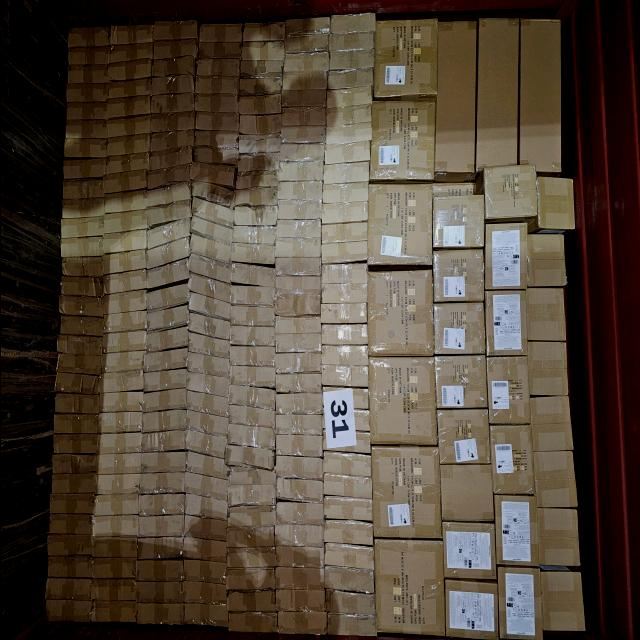Carton: (474, 19, 520, 171), (375, 538, 445, 634), (518, 19, 562, 171), (372, 446, 441, 541), (430, 18, 472, 174), (370, 357, 438, 449), (367, 268, 433, 356), (366, 182, 434, 267), (369, 98, 436, 182), (372, 19, 438, 99), (492, 496, 536, 570), (494, 566, 538, 638), (436, 466, 490, 524), (480, 167, 536, 222), (441, 582, 494, 640), (444, 522, 496, 580), (480, 220, 524, 288), (488, 424, 530, 494), (484, 356, 527, 424), (428, 303, 482, 357), (429, 192, 481, 248), (437, 409, 489, 465), (434, 354, 487, 408), (540, 570, 584, 634), (482, 289, 524, 356), (430, 248, 480, 304), (532, 450, 576, 507), (537, 506, 578, 566), (529, 395, 571, 451), (527, 342, 567, 396), (526, 236, 566, 289), (528, 288, 568, 340), (536, 177, 574, 231), (320, 263, 368, 304), (320, 348, 368, 386), (327, 12, 373, 48), (145, 256, 189, 290), (144, 198, 189, 230), (145, 237, 187, 271), (145, 219, 189, 251), (324, 564, 374, 592), (323, 546, 373, 574), (223, 446, 276, 472), (325, 589, 375, 616), (144, 280, 188, 310), (321, 455, 371, 481), (148, 182, 188, 214), (322, 496, 370, 522), (182, 601, 230, 627), (226, 482, 275, 507), (324, 520, 374, 544), (274, 612, 324, 636), (275, 588, 325, 612), (229, 383, 275, 409), (321, 390, 368, 415), (324, 616, 377, 638), (274, 502, 322, 526), (272, 330, 320, 354), (149, 165, 191, 192), (275, 455, 322, 479), (275, 478, 321, 502), (44, 576, 90, 600), (226, 590, 276, 612), (274, 566, 324, 588), (226, 548, 276, 570), (227, 613, 277, 635), (187, 314, 229, 340), (150, 146, 192, 172), (190, 273, 232, 299), (190, 234, 232, 260), (192, 180, 234, 206), (191, 255, 231, 282), (228, 505, 277, 527), (322, 162, 368, 185), (44, 555, 90, 578), (318, 303, 366, 325), (89, 576, 133, 600), (226, 526, 274, 548), (226, 568, 274, 590), (324, 477, 372, 499), (272, 434, 320, 456), (274, 524, 322, 546), (320, 326, 368, 348), (274, 292, 318, 316), (183, 516, 227, 540), (135, 601, 185, 622), (192, 218, 232, 244), (192, 199, 232, 225), (134, 559, 181, 581), (140, 410, 187, 432), (50, 434, 96, 456), (92, 494, 138, 516), (46, 534, 92, 556), (136, 536, 182, 558), (180, 559, 224, 582), (138, 516, 184, 538), (140, 388, 184, 411), (136, 582, 182, 604), (274, 352, 320, 374), (140, 451, 186, 473), (272, 218, 318, 240), (274, 392, 320, 414), (275, 180, 321, 202), (320, 240, 366, 262), (184, 494, 228, 517), (44, 602, 90, 624), (101, 210, 145, 233), (283, 34, 329, 56), (230, 406, 276, 428), (236, 152, 282, 174), (272, 414, 320, 435), (102, 252, 144, 276), (190, 164, 232, 188), (274, 548, 324, 568), (229, 366, 274, 388), (139, 493, 184, 515), (139, 432, 184, 454), (183, 536, 226, 559), (188, 451, 226, 477), (320, 203, 367, 224), (322, 431, 369, 452), (96, 452, 140, 474), (100, 232, 144, 254), (58, 296, 102, 318), (54, 374, 98, 396), (47, 514, 91, 536), (90, 514, 134, 536), (228, 326, 272, 348), (60, 159, 104, 181), (141, 349, 185, 371), (94, 474, 138, 496), (180, 582, 224, 604), (232, 241, 276, 263), (90, 600, 134, 622), (232, 265, 276, 287), (58, 257, 102, 279), (106, 116, 150, 138), (230, 284, 274, 306), (60, 198, 104, 220), (48, 492, 92, 514), (150, 130, 194, 152), (187, 296, 231, 318), (52, 392, 98, 413), (228, 346, 274, 367), (50, 474, 96, 495), (188, 335, 230, 358), (227, 427, 273, 448), (318, 224, 366, 244), (320, 186, 368, 206), (145, 306, 185, 330), (59, 216, 102, 238), (101, 332, 144, 354), (105, 134, 148, 156), (89, 557, 132, 579), (184, 474, 227, 496), (51, 414, 98, 434), (97, 411, 139, 433), (66, 27, 110, 48), (102, 272, 144, 294), (108, 60, 150, 82), (98, 371, 140, 393), (100, 351, 142, 373), (104, 292, 146, 314), (108, 95, 152, 116), (186, 412, 228, 434), (144, 330, 186, 352), (56, 336, 102, 356), (279, 106, 325, 126), (56, 354, 102, 374), (273, 258, 319, 278), (102, 192, 142, 215), (324, 108, 370, 128), (272, 236, 318, 256), (272, 318, 318, 338), (328, 52, 374, 72), (274, 374, 320, 394), (276, 162, 322, 182), (327, 70, 373, 90), (284, 16, 330, 36), (321, 413, 369, 432), (59, 237, 102, 258), (105, 171, 146, 193), (139, 474, 184, 494), (228, 306, 273, 326), (56, 316, 101, 336), (49, 454, 94, 474), (275, 200, 320, 220), (99, 391, 141, 412), (194, 112, 238, 132), (150, 112, 194, 132), (274, 274, 318, 294), (90, 536, 134, 556), (152, 21, 196, 41), (194, 95, 238, 115), (236, 96, 280, 116), (63, 138, 107, 158), (66, 48, 110, 68), (192, 58, 236, 78), (60, 182, 104, 202), (240, 23, 284, 43), (232, 206, 276, 226), (240, 116, 280, 138), (278, 142, 322, 162), (97, 434, 140, 454), (150, 94, 193, 114), (197, 22, 240, 42), (143, 371, 186, 391), (108, 80, 150, 100), (102, 312, 144, 332), (66, 64, 108, 84), (63, 82, 105, 102), (58, 276, 100, 296), (110, 25, 152, 45), (186, 354, 228, 374), (235, 188, 277, 208), (105, 156, 147, 176), (232, 227, 276, 246), (240, 41, 284, 60), (236, 78, 280, 97), (194, 40, 238, 59), (279, 127, 325, 145), (193, 78, 236, 97), (150, 75, 193, 94), (62, 121, 105, 140), (66, 102, 108, 121), (151, 59, 195, 77), (281, 90, 325, 108), (194, 131, 238, 149), (227, 466, 276, 482), (150, 43, 193, 61), (108, 43, 150, 61), (238, 61, 282, 78), (236, 175, 278, 192)
